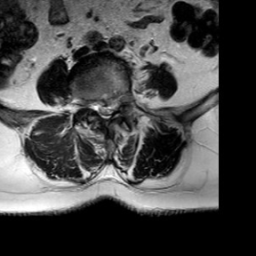CCS_stenosis: (101, 92, 109, 125)
LFS_normal: (116, 85, 124, 115)
LLS_normal: (109, 89, 116, 121)
RFS_normal: (87, 88, 95, 116)
RLS_normal: (95, 88, 101, 121)
